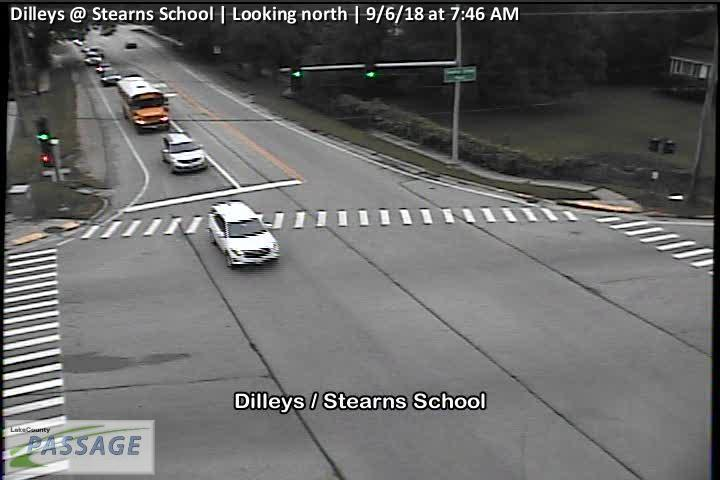SUV: (205, 198, 281, 267), (161, 131, 210, 174)
Truck: (116, 75, 171, 134)
